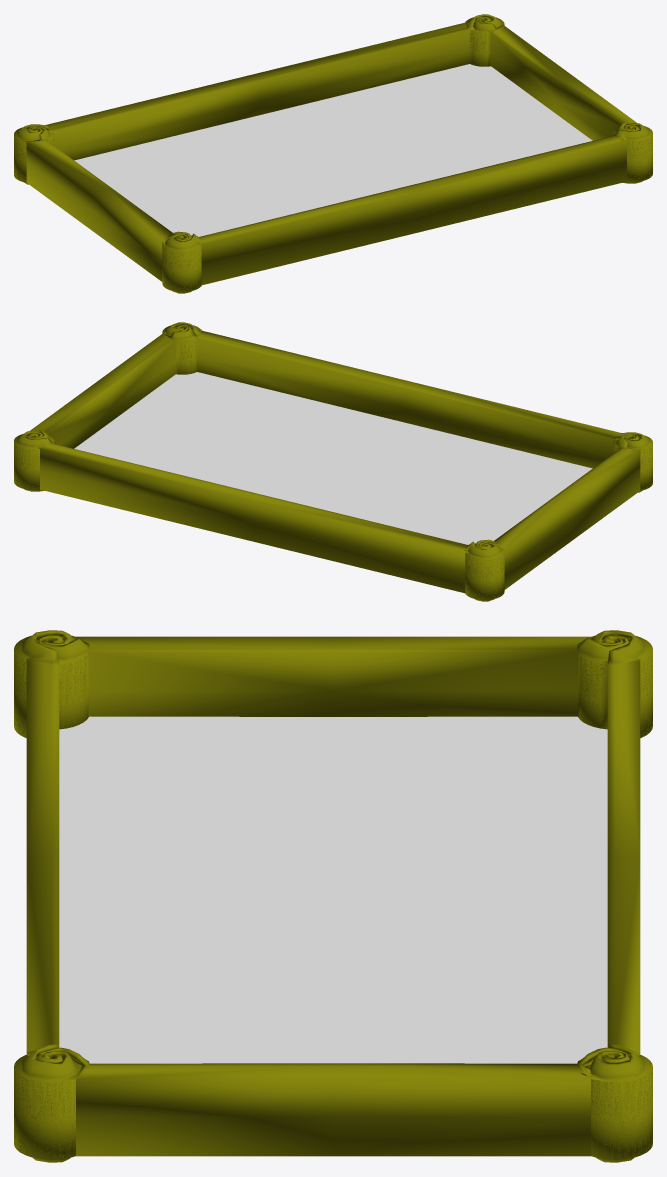
File: painting.fbx
3 views of the same model, one above another, from view 1: azimuth 30°, elevation 25°; view 2: azimuth 150°, elevation 25°; view 3: azimuth 270°, elevation 25° (orthographic). The views are drawn at different scales.
Visible parts, largest first — view 1: Cylinder, Plane; view 2: Cylinder, Plane; view 3: Plane, Cylinder.
Boxes of the visible parts, left/top/right/bottom form: Cylinder: left=14, top=14, right=652, bottom=293; Plane: left=74, top=64, right=592, bottom=236; Cylinder: left=14, top=322, right=652, bottom=601; Plane: left=74, top=372, right=592, bottom=544; Plane: left=59, top=716, right=607, bottom=1063; Cylinder: left=14, top=630, right=652, bottom=1162.
Size of the model in its own units: 4191 by 422 by 2519.
